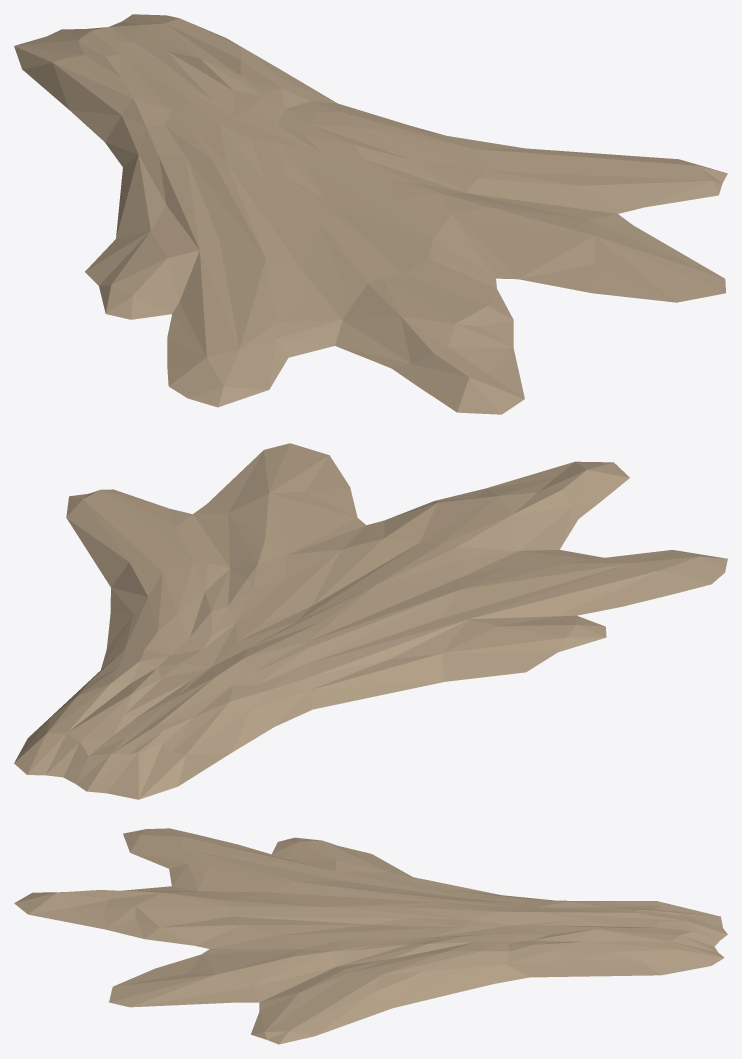
File: SM_Env_DirtRoad_End_01.glb
3 views of the same model, one above another, from view 1: azimuth 30°, elevation 25°; view 2: azimuth 150°, elevation 25°; view 3: azimuth 270°, elevation 25° (orthographic). The views are drawn at different scales.
Visible parts, largest first — view 1: SM_Env_DirtRoad_End_01; view 2: SM_Env_DirtRoad_End_01; view 3: SM_Env_DirtRoad_End_01.
Boxes of the visible parts, left/top/right/bottom form: SM_Env_DirtRoad_End_01: left=14, top=14, right=727, bottom=414; SM_Env_DirtRoad_End_01: left=14, top=443, right=727, bottom=799; SM_Env_DirtRoad_End_01: left=14, top=828, right=727, bottom=1044.
Bounding box in the file's own units: 7.84 × 0.3833 × 10.95.
1 material, 1 textured.
